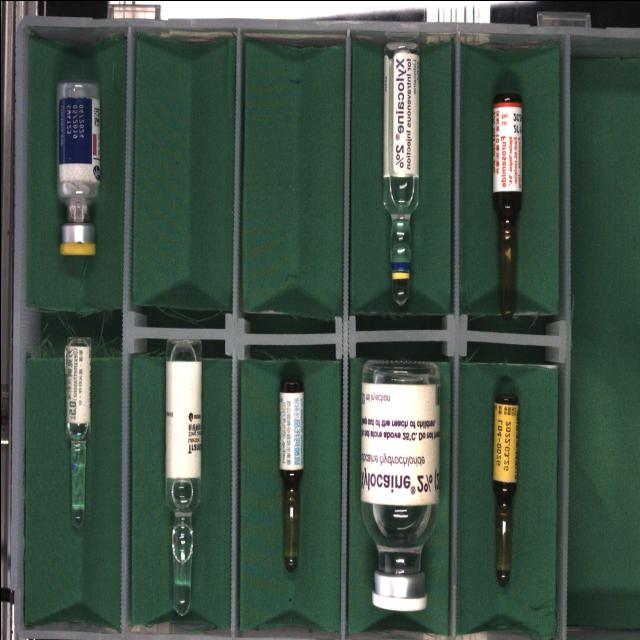Vials: (360, 359, 439, 610), (56, 79, 99, 254)
